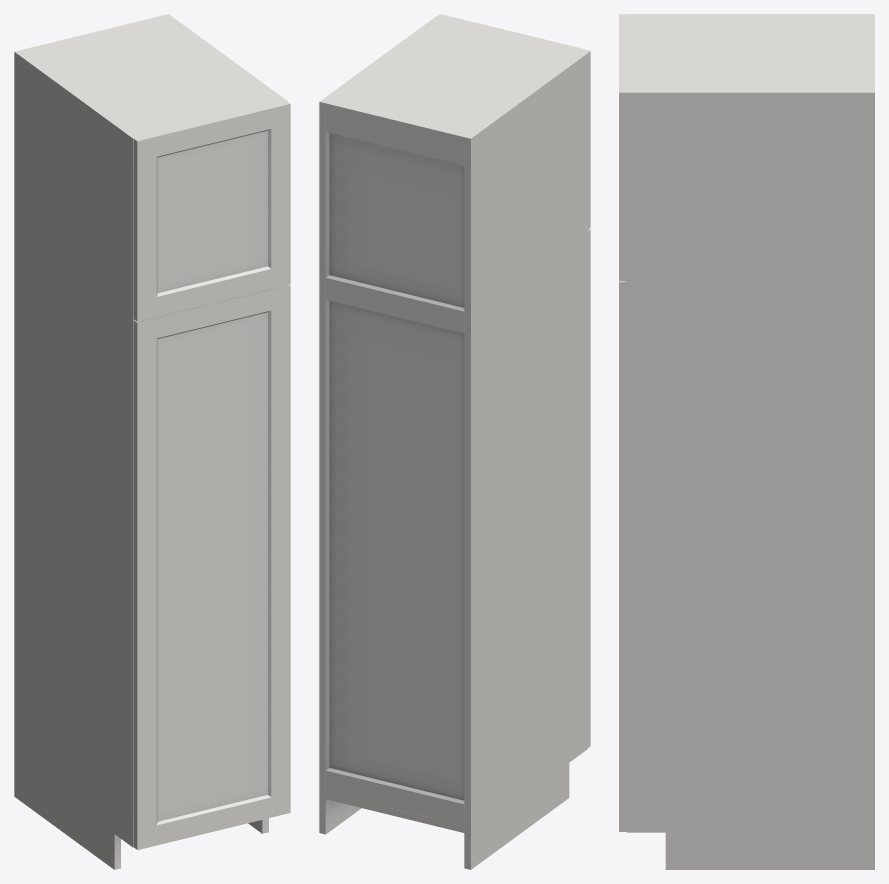
The model's file is tall-1-door-doors-on.glb.
3 renders of one model, left to right at view 1: azimuth 30°, elevation 25°; view 2: azimuth 150°, elevation 25°; view 3: azimuth 270°, elevation 25°, orthographic. The views are drawn at different scales.
Parts seen in each view (by area): view 1: part_22, part_0; view 2: part_0, part_22; view 3: part_0, part_22.
Part boxes in pixels (x1,y1,x2,y2): part_22: (133, 101, 290, 849); part_0: (14, 14, 287, 869); part_0: (319, 16, 587, 869); part_22: (437, 14, 590, 747); part_0: (627, 14, 874, 869); part_22: (619, 14, 626, 831).
Size of the model in its own units: 0.4572 by 2.11 by 0.6287.
2 materials, 2 textured.
